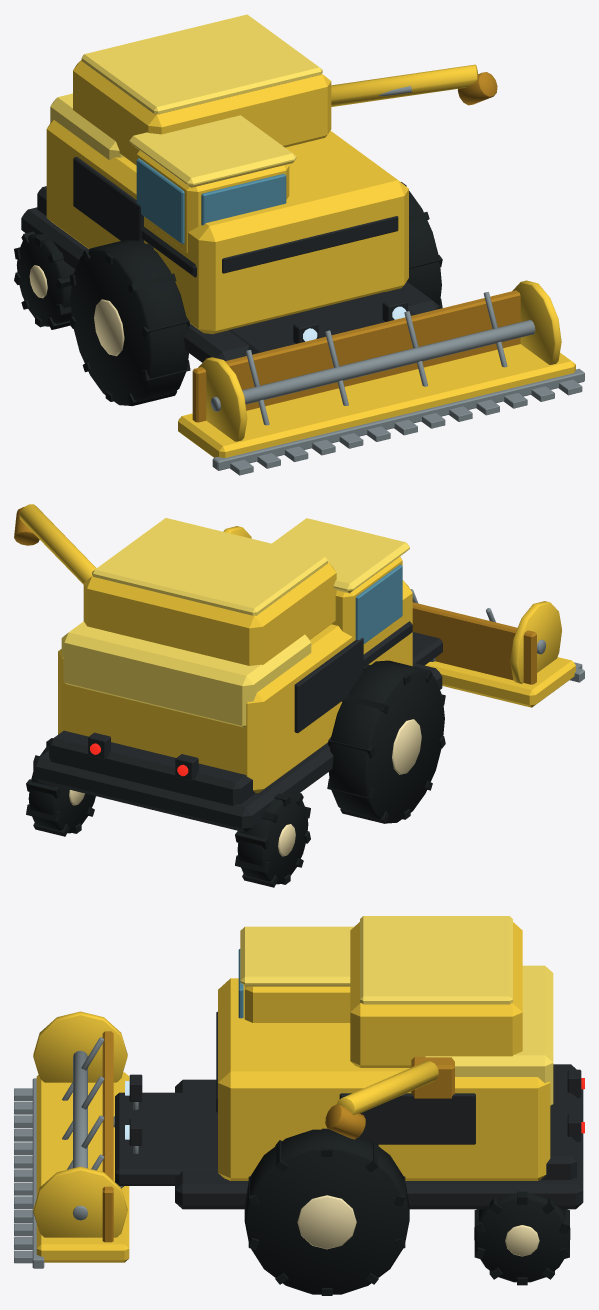
Rendered from FTF_Vehicle_CombineHarvester_BlackYellow_7m.glb.
3 renders of one model, top to bottom at view 1: azimuth 30°, elevation 25°; view 2: azimuth 150°, elevation 25°; view 3: azimuth 270°, elevation 25°, orthographic. The views are drawn at different scales.
Visible parts, largest first — view 1: FTF_Vehicle_CombineHarvester_BlackYellow_7m_Static, Wheel_FL_Mesh, HeaderReel_Mesh, Wheel_RL_Mesh, Wheel_FR_Mesh; view 2: FTF_Vehicle_CombineHarvester_BlackYellow_7m_Static, Wheel_FL_Mesh, Wheel_RL_Mesh, Wheel_RR_Mesh, HeaderReel_Mesh; view 3: FTF_Vehicle_CombineHarvester_BlackYellow_7m_Static, Wheel_FR_Mesh, HeaderReel_Mesh, Wheel_RR_Mesh.
Part boxes in pixels (x1,y1,x2,y2): FTF_Vehicle_CombineHarvester_BlackYellow_7m_Static: (21, 14, 584, 475); Wheel_FL_Mesh: (69, 240, 190, 405); HeaderReel_Mesh: (198, 280, 561, 441); Wheel_RL_Mesh: (14, 231, 74, 329); Wheel_FR_Mesh: (401, 182, 442, 308); FTF_Vehicle_CombineHarvester_BlackYellow_7m_Static: (14, 504, 584, 832); Wheel_FL_Mesh: (327, 660, 445, 823); Wheel_RL_Mesh: (235, 791, 310, 887); Wheel_RR_Mesh: (26, 738, 95, 836); HeaderReel_Mesh: (223, 526, 561, 683); FTF_Vehicle_CombineHarvester_BlackYellow_7m_Static: (14, 916, 584, 1268); Wheel_FR_Mesh: (244, 1128, 409, 1295); HeaderReel_Mesh: (33, 1011, 127, 1237); Wheel_RR_Mesh: (474, 1191, 570, 1285).
Bounding box in the file's own units: 5.96 × 3.53 × 6.78.
